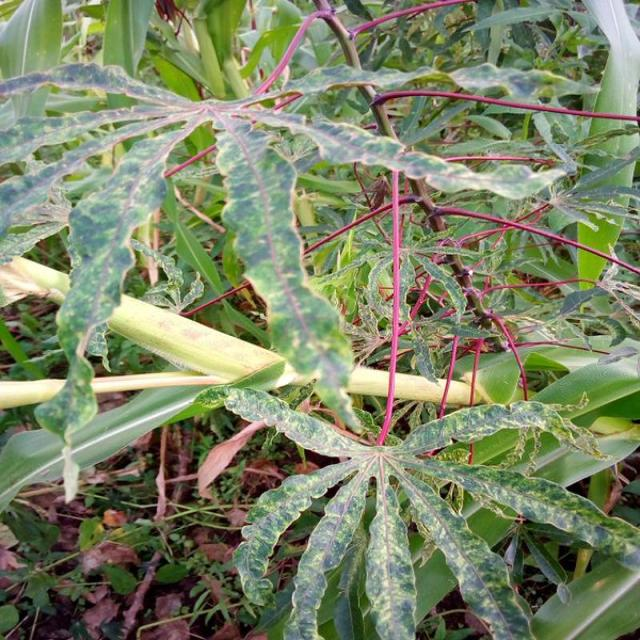cassava leaf: (0, 1, 638, 637), (221, 382, 635, 638), (211, 109, 363, 435)
